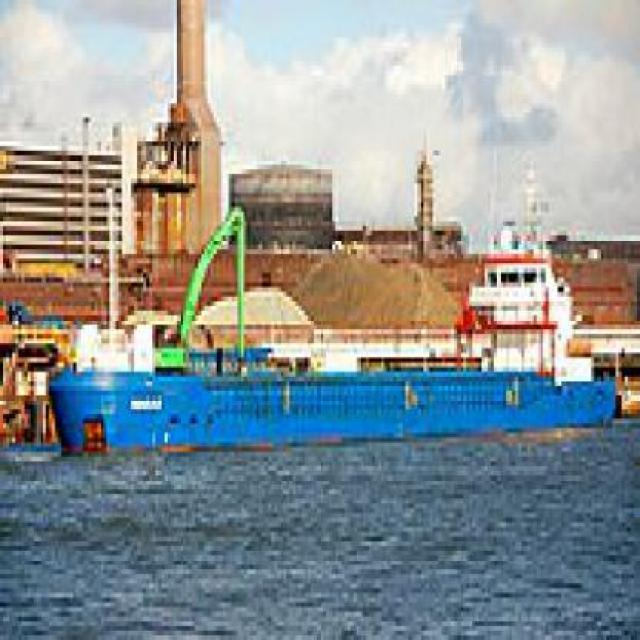container: (50, 246, 633, 458)
